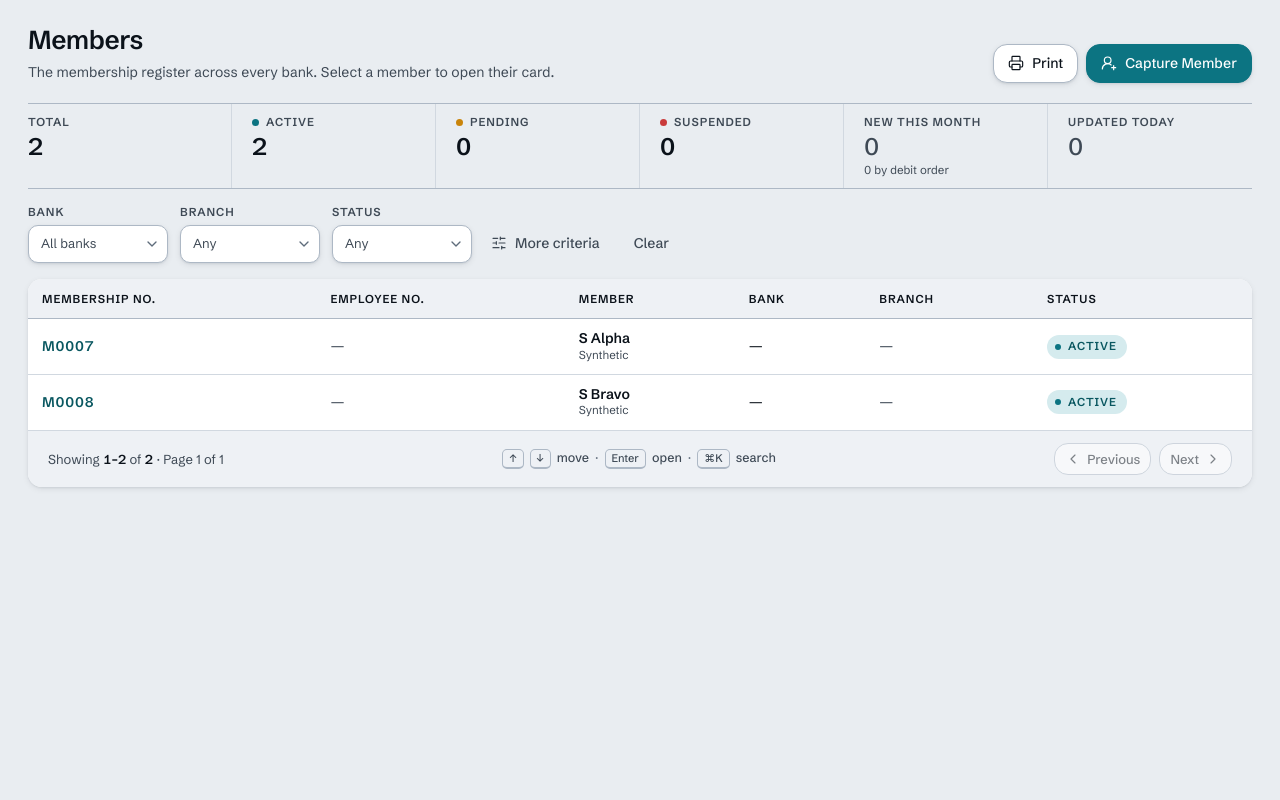
Test case: the member record, mid-edit › ④ the close button asks too, when the edit has changes
Step 1. Click the button "M0007" → click(68, 346), box [42,336,94,357]
(page scrolled)
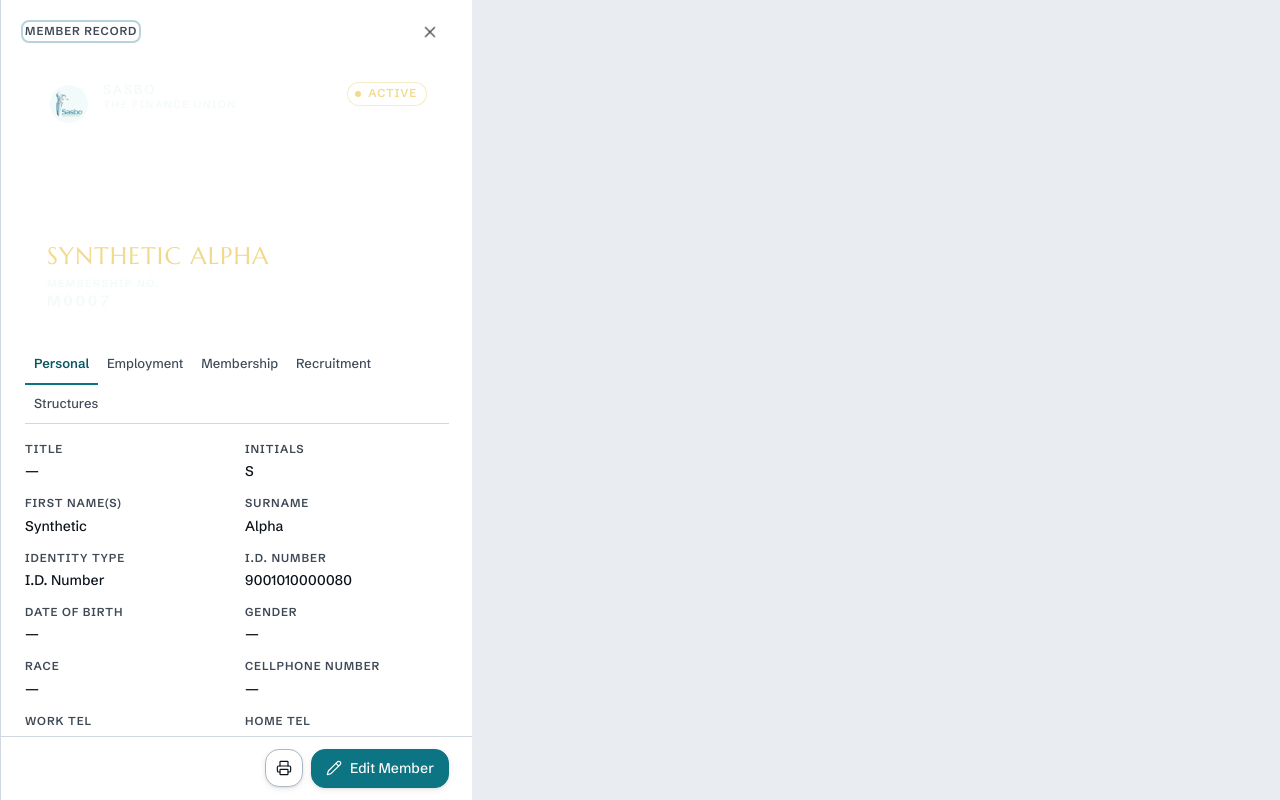
Step 2. Click the button "Edit Member" → click(380, 768), box [311,749,449,788]
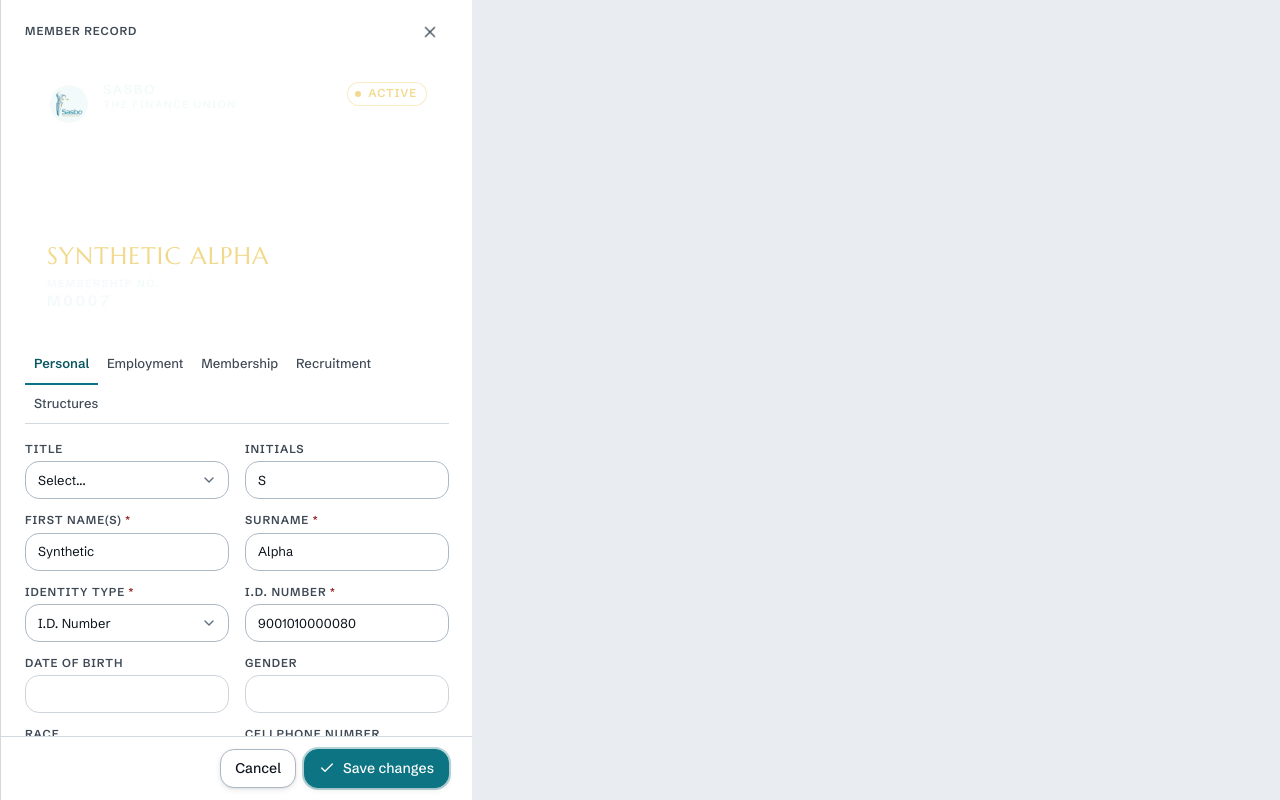
Step 3. Replace the text in the field labelled "Initials" with "Q" → (347, 480), box [245,461,449,499]
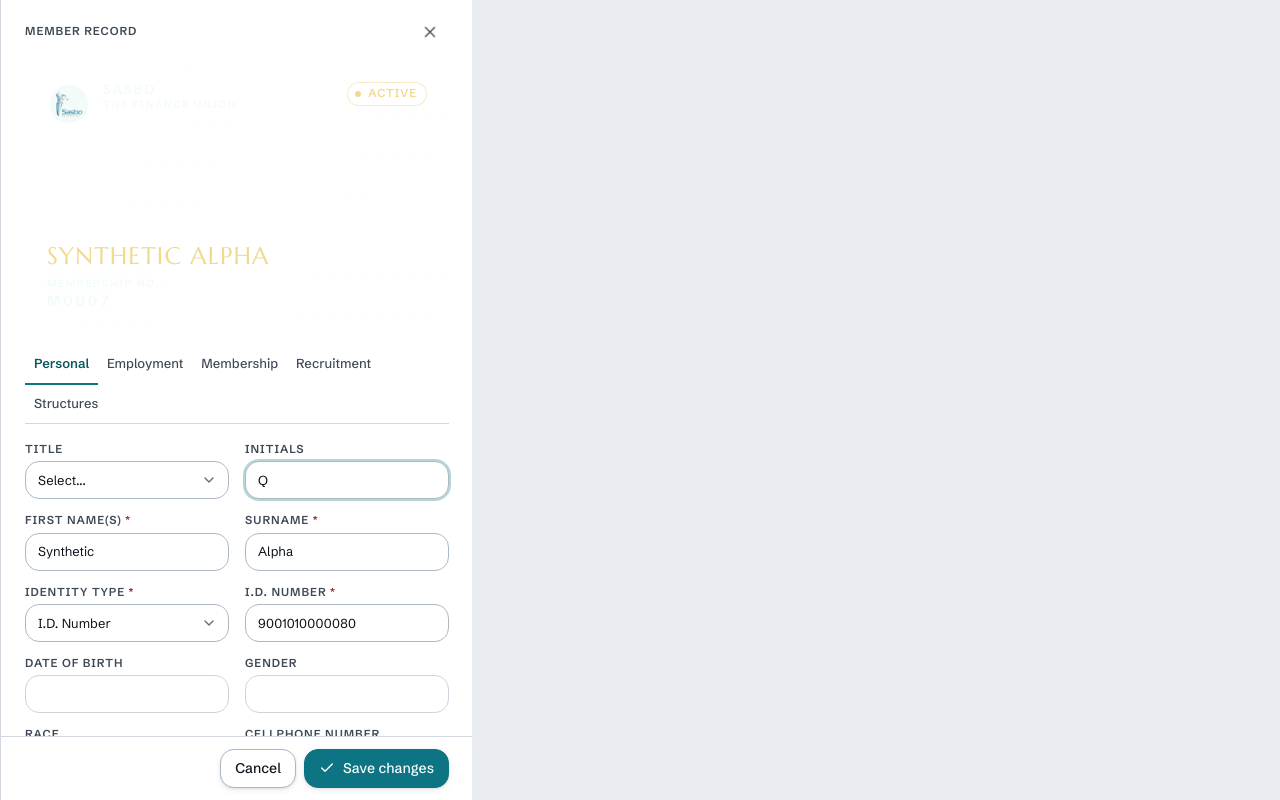
Step 4. Click the button named "Close member details" → click(430, 32), box [411,13,449,51]
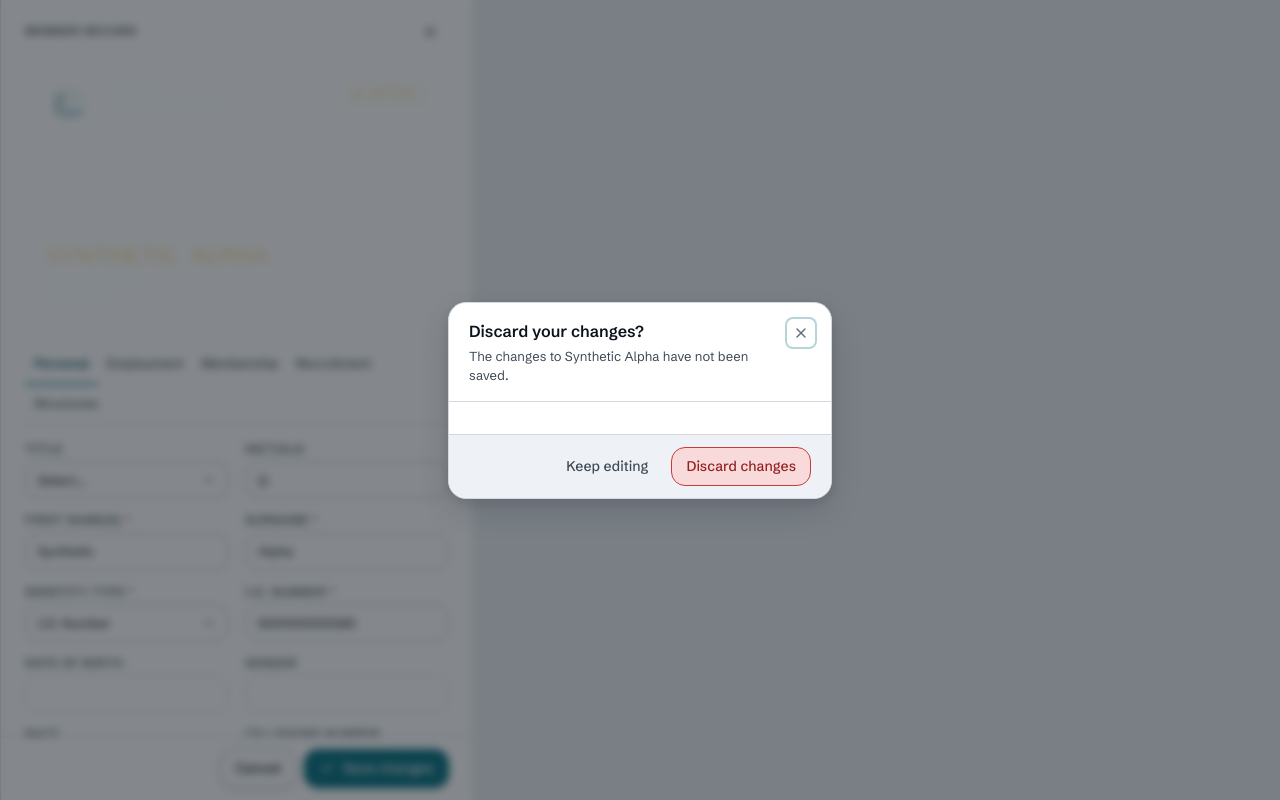
Result: the dialog "Discard your changes" is shown at [448,302,832,498]
